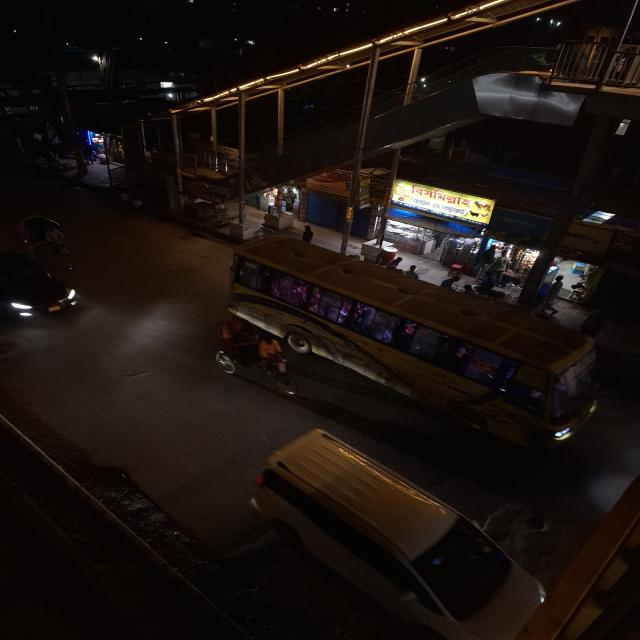bus: (219, 242, 609, 448)
car: (248, 427, 556, 640), (0, 244, 86, 325)
rickshaw: (212, 316, 296, 389), (15, 212, 81, 268)
